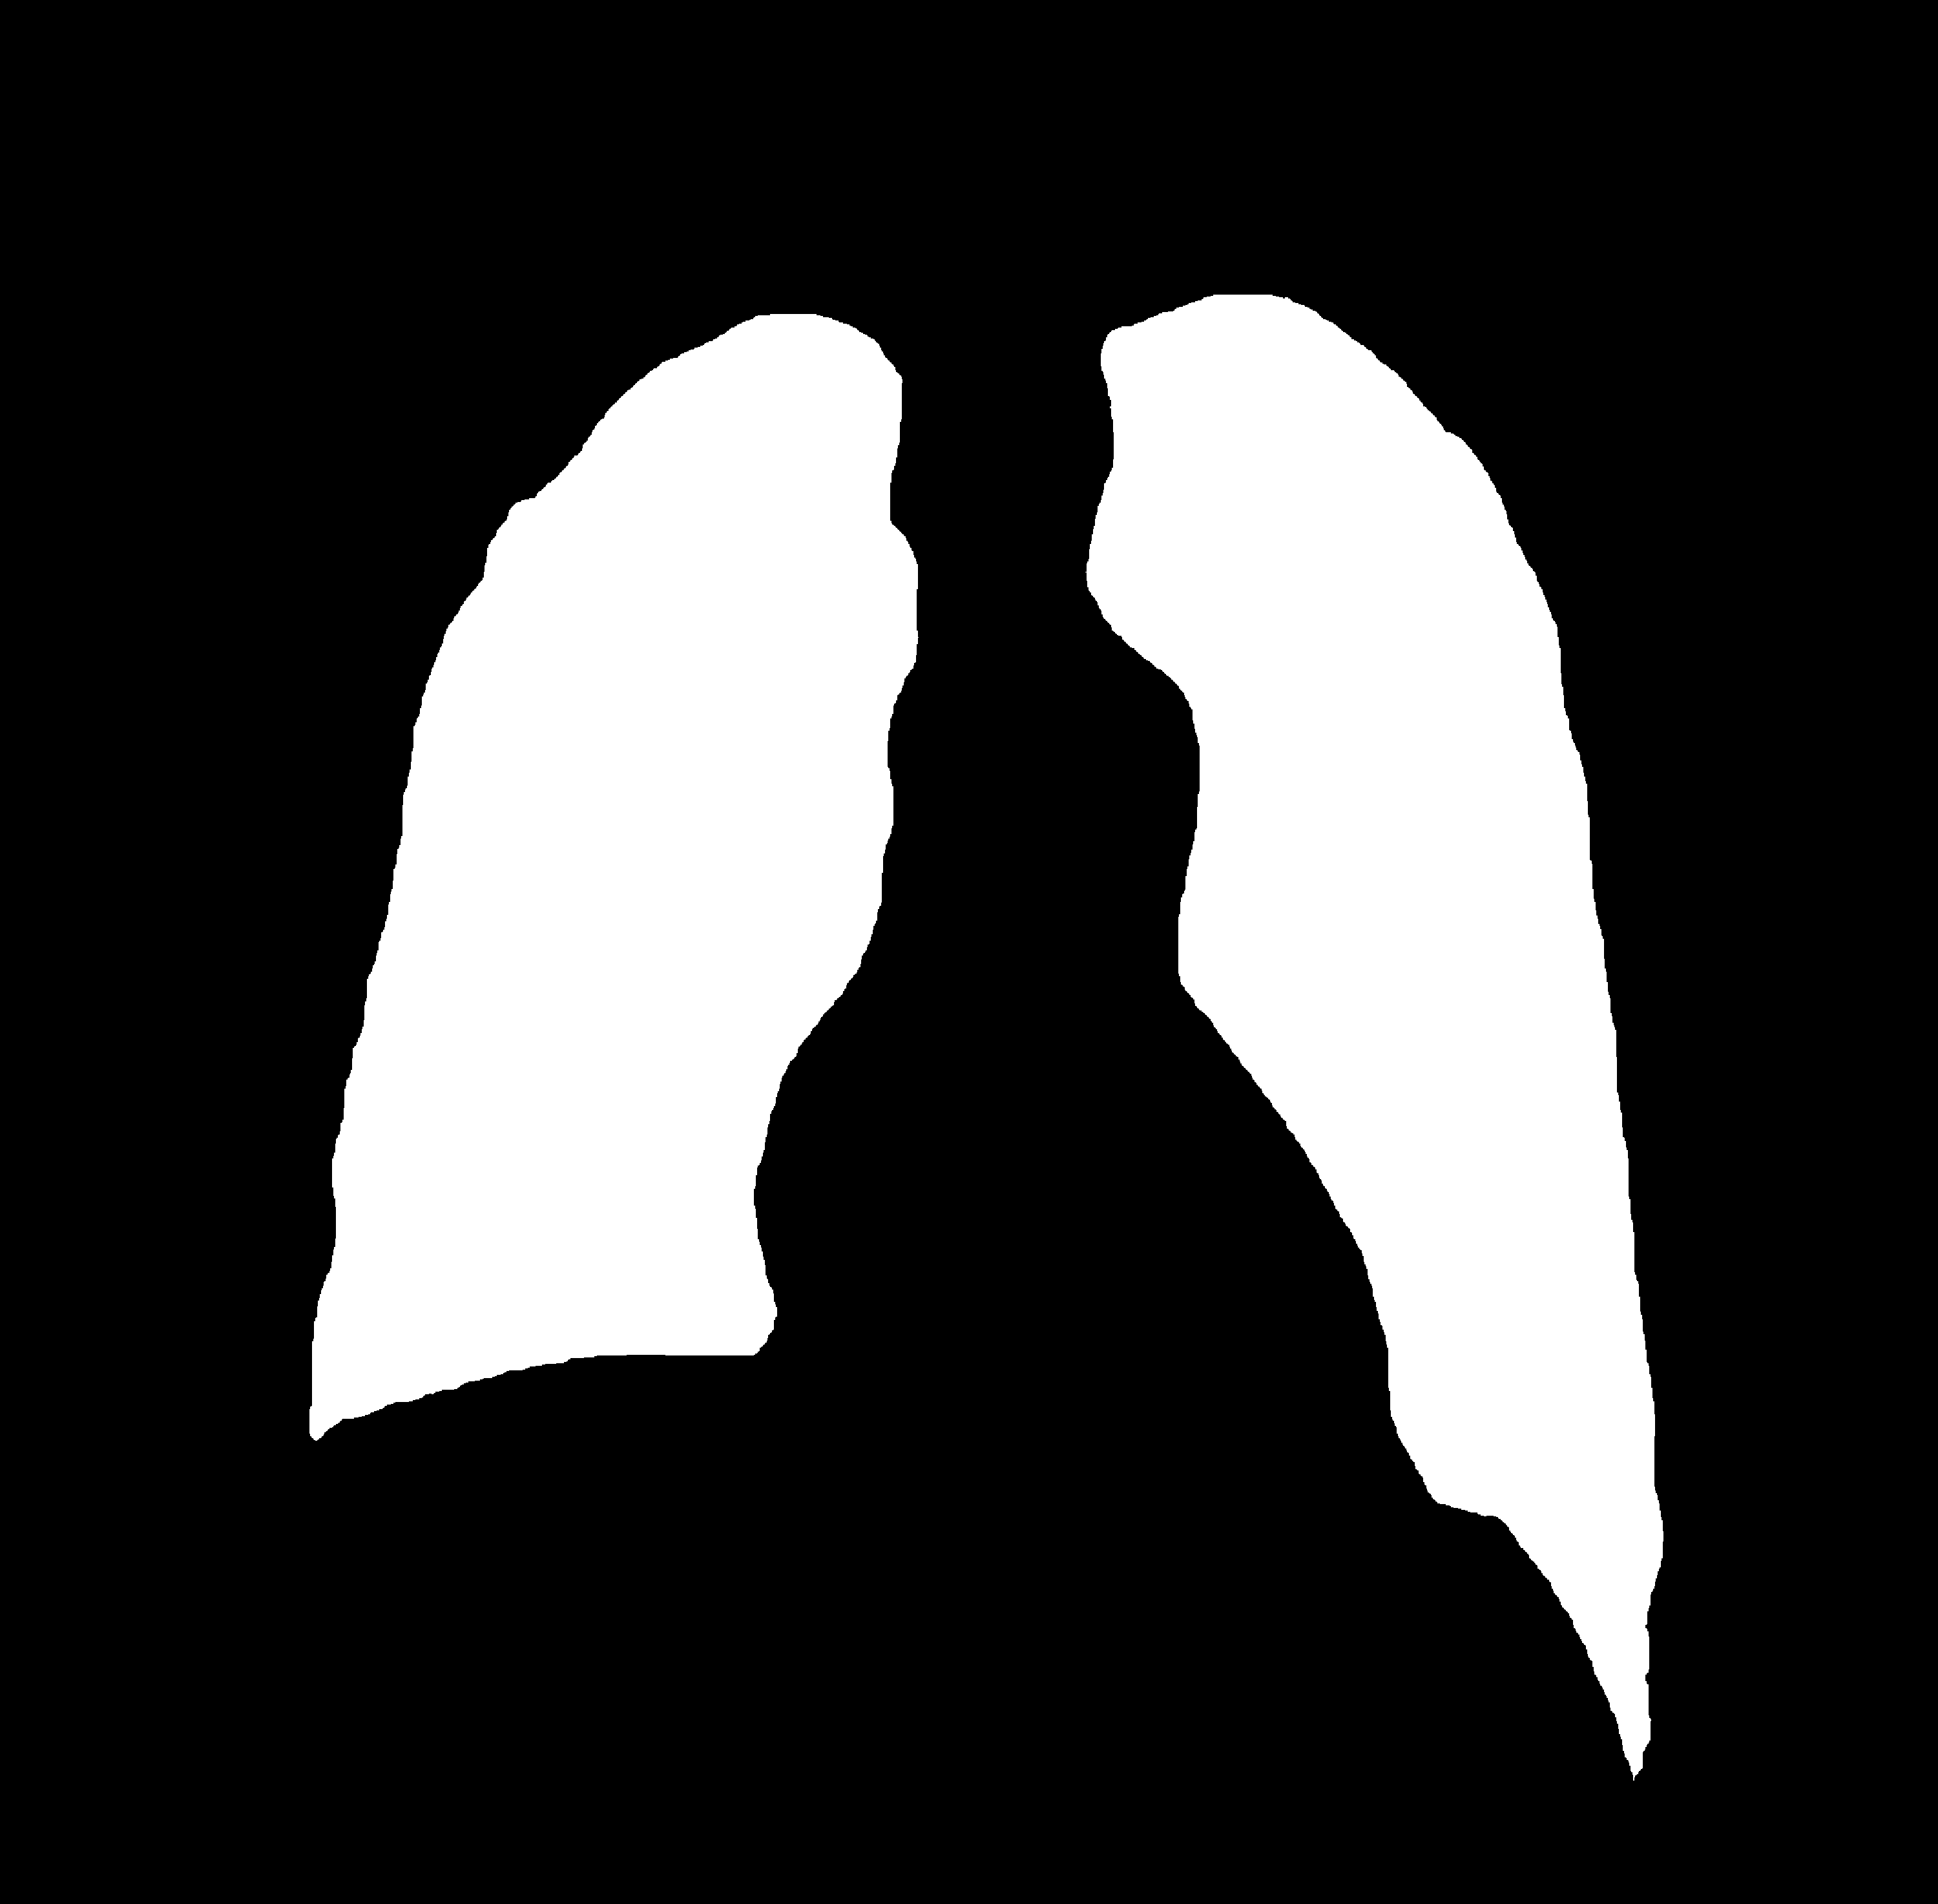heart: (751, 968, 1399, 1498)
left_lung: (310, 314, 918, 1440)
right_lung: (1086, 295, 1663, 1780)
